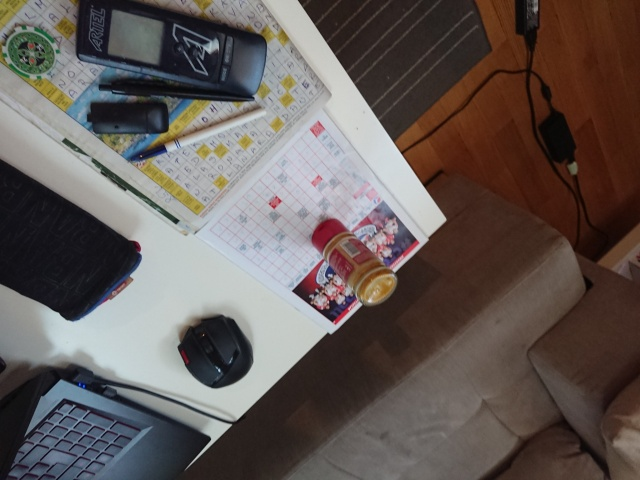Kotanyi Curry Spices Mix 70g: (309, 216, 400, 309)
